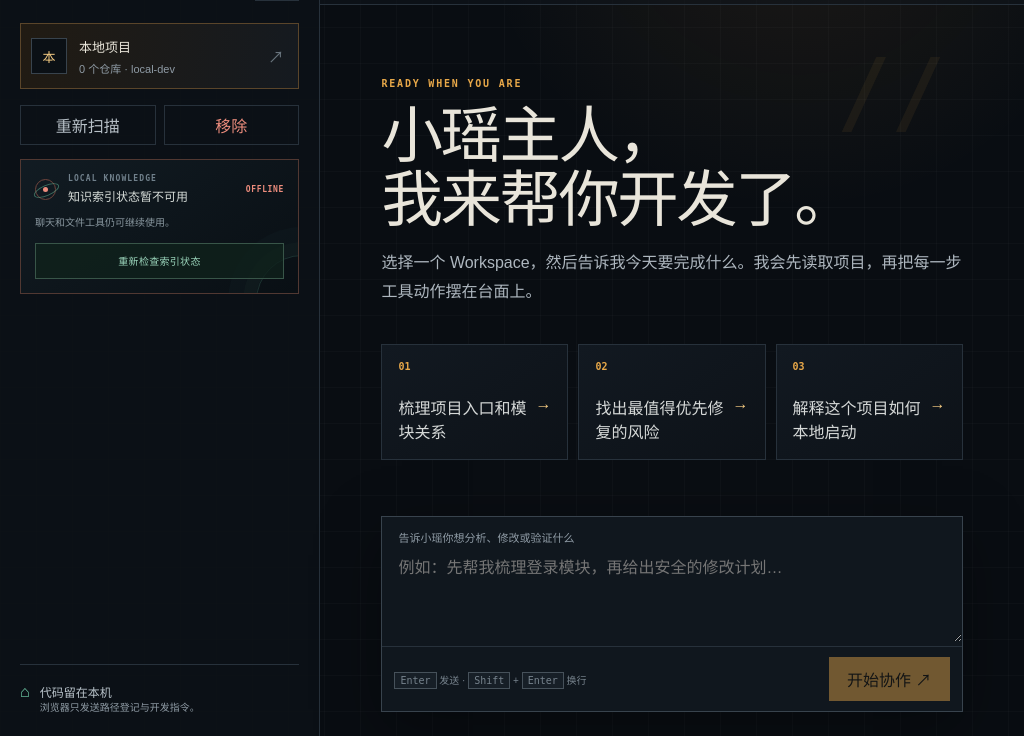
Test case: 小瑶开发助手工作台 › renders a normal resume SSE outcome for applied_and_tests_passed without generic approval overwrite
The width and height of the screenshot is (1024, 736).
(page scrolled)
Check: the button "本 本地项目 0 个仓库 · local-dev ↗" is shown, box [20,23,299,89]
Step 1. Type "正常 outcome" into the text box labelled "告诉小瑶你想分析、修改或验证什么" → (672, 594), box [382,545,962,642]
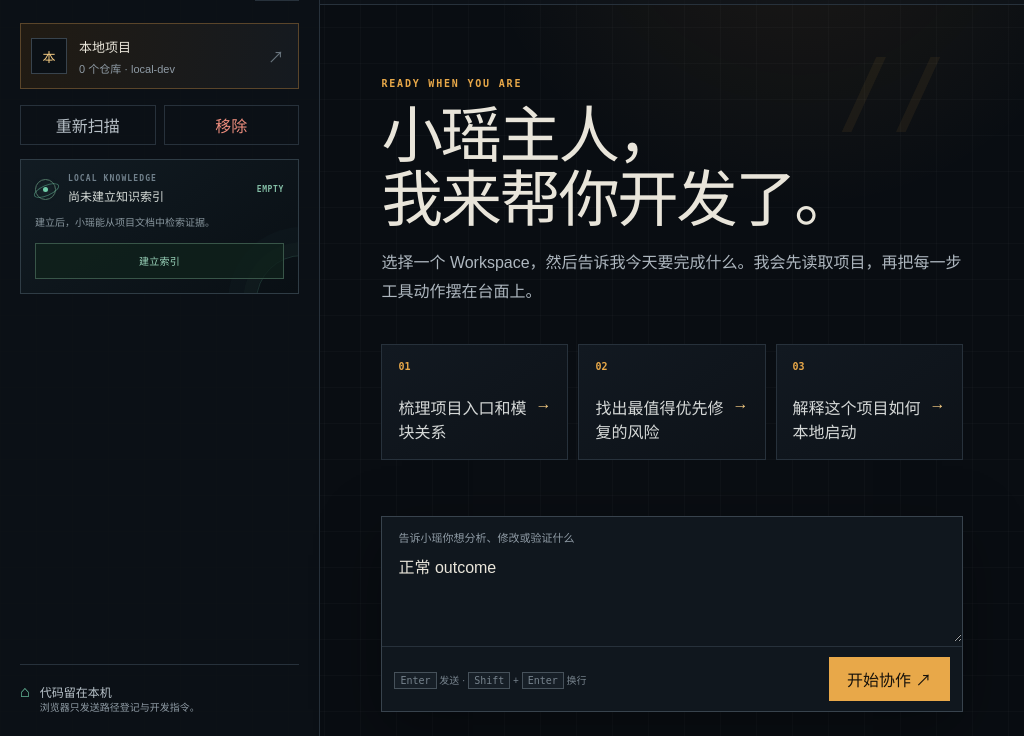
Step 2. Click the button "开始协作 ↗" → (889, 679), box [829,657,950,701]
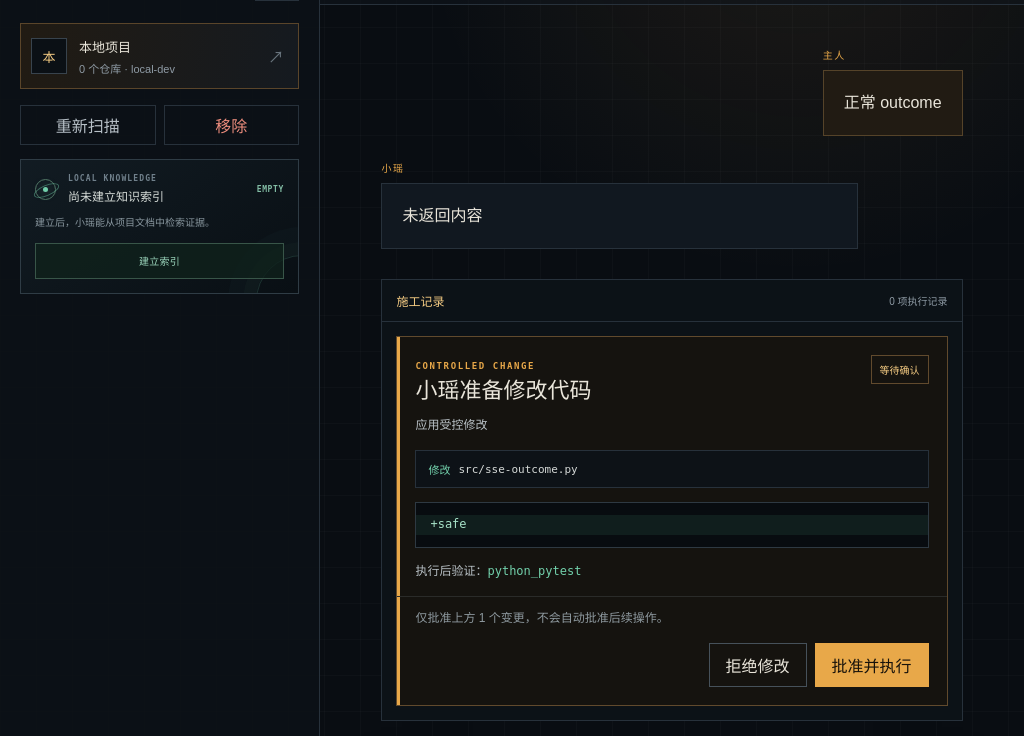
Step 3. Click the button "批准并执行" → (872, 665), box [814,643,928,687]
(page scrolled)
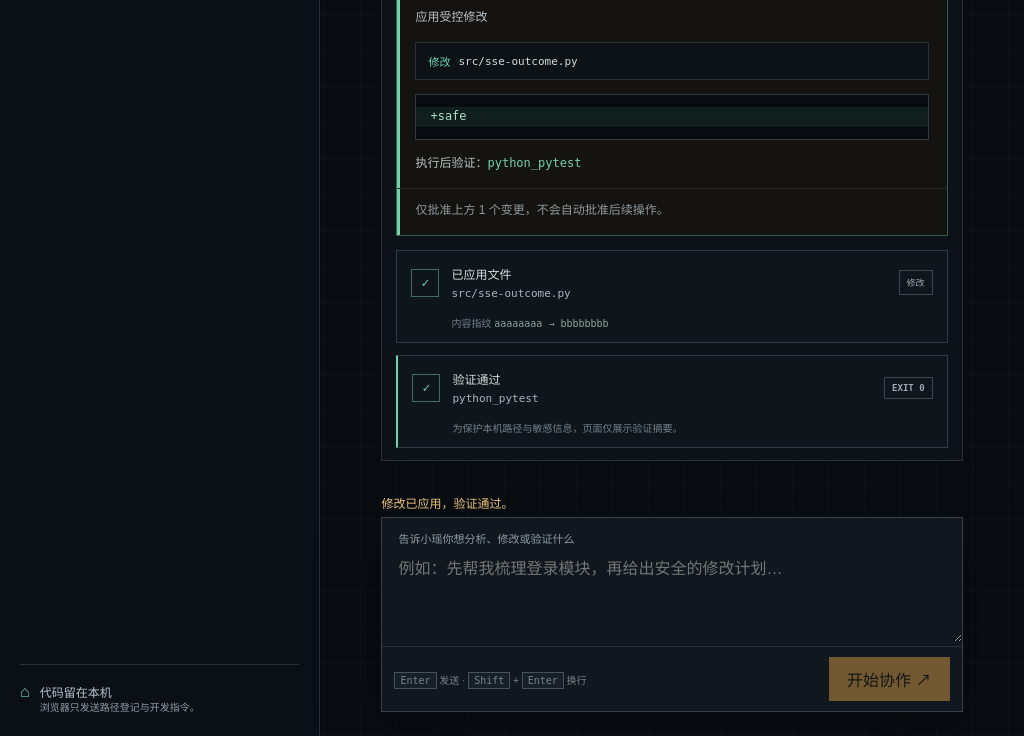
Check: the text "验证通过" is shown, box [452,373,500,387]
